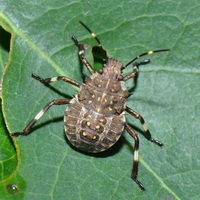insect: (11, 21, 169, 190)
